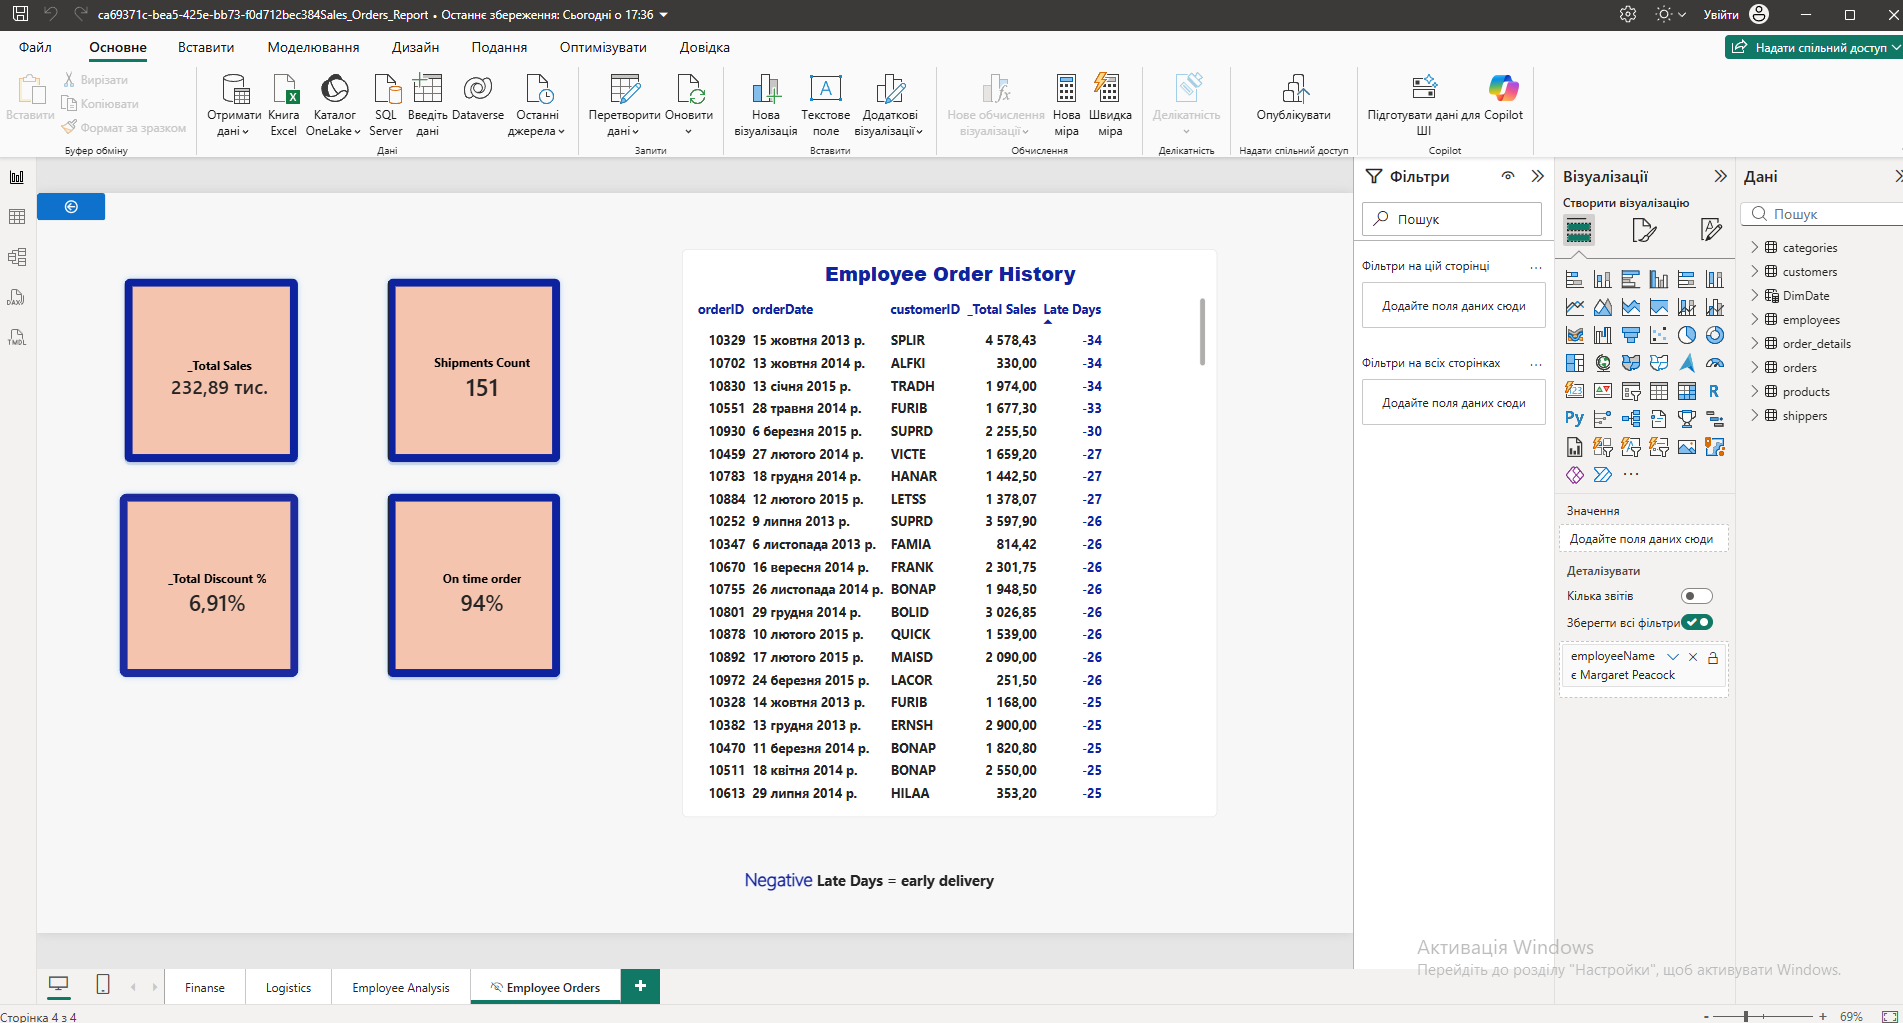

Layout of this report page (visuals, bound fields, positions):
{"tool":"powerbi","page":{"name":"Employee Orders","canvas":[1920,1080],"ordinal":3},"visuals":[{"type":"actionButton","box":[0,0,100,40],"z":0},{"type":"cardVisual","fields":{"Data":["orders.Shipments Count"]},"box":[500.4,113.8,274.3,290.3],"z":2},{"type":"tableEx","title":"Employee Order History","fields":{"Values":["orders.orderID","orders.orderDate","orders.customerID","orders._Total Sales","orders.Late Days"]},"box":[941,81.7,780.5,828.7],"z":3},{"type":"cardVisual","fields":{"Data":["orders._Total Sales"]},"box":[116.7,113.8,275.7,290.3],"z":4},{"type":"cardVisual","fields":{"Data":["orders.On time orders%"]},"box":[500.4,427.5,274.3,290.3],"z":6},{"type":"textbox","box":[1028.6,981.9,506.3,58.4],"z":7},{"type":"textbox","box":[783.5,113.8,176.5,290.3],"z":8},{"type":"cardVisual","fields":{"Data":["orders._Total Discount %"]},"box":[109.4,427.5,283,290.3],"z":9}]}

Visuals, with their boxes on the page's 1920x1080 design canvas (x1, y1, x2, y2). These are canvas units, not pixel positions in the 1903x1023 screenshot, which may show the page scaled, cropped or inside an application window:
actionButton: x1=0, y1=0, x2=100, y2=40
cardVisual - orders.Shipments Count: x1=500, y1=114, x2=775, y2=404
"Employee Order History" tableEx: x1=941, y1=82, x2=1722, y2=910
cardVisual - orders._Total Sales: x1=117, y1=114, x2=392, y2=404
cardVisual - orders.On time orders%: x1=500, y1=428, x2=775, y2=718
textbox: x1=1029, y1=982, x2=1535, y2=1040
textbox: x1=784, y1=114, x2=960, y2=404
cardVisual - orders._Total Discount %: x1=109, y1=428, x2=392, y2=718
